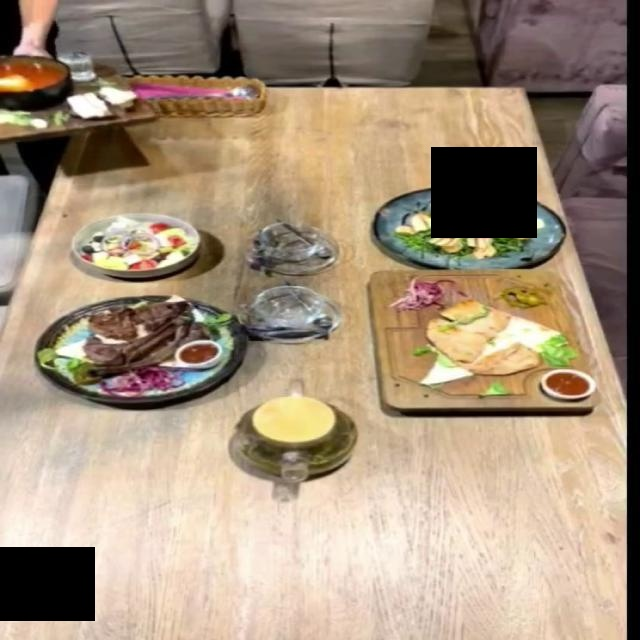meat: (365, 270, 602, 410), (34, 295, 250, 404)
salad: (375, 185, 568, 267), (70, 211, 203, 276)
soup: (0, 47, 145, 133)
tea: (230, 394, 359, 484)
